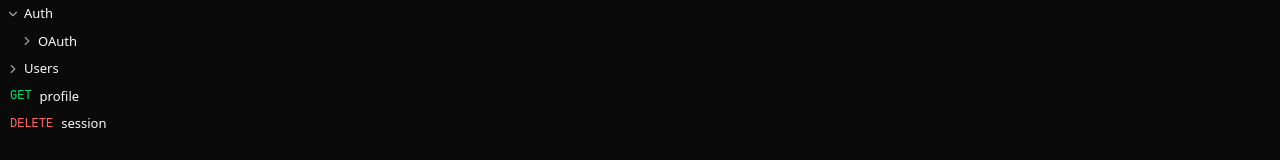
Test: SidebarTree › should hide a folder's children when an expanded folder is clicked
Expected: the list item "OAuth" is shown, x1=20 y1=32 x2=77 y2=50
Click the list item "Auth".
click(30, 13)  # box x1=6 y1=4 x2=53 y2=22
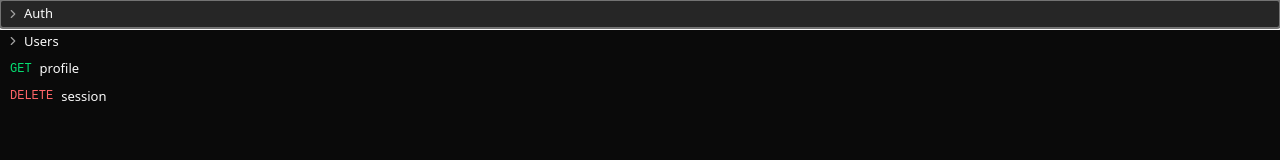
Expected: the list item "Auth" is collapsed, x1=0 y1=0 x2=1279 y2=28
Expected: the text "OAuth" is gone
